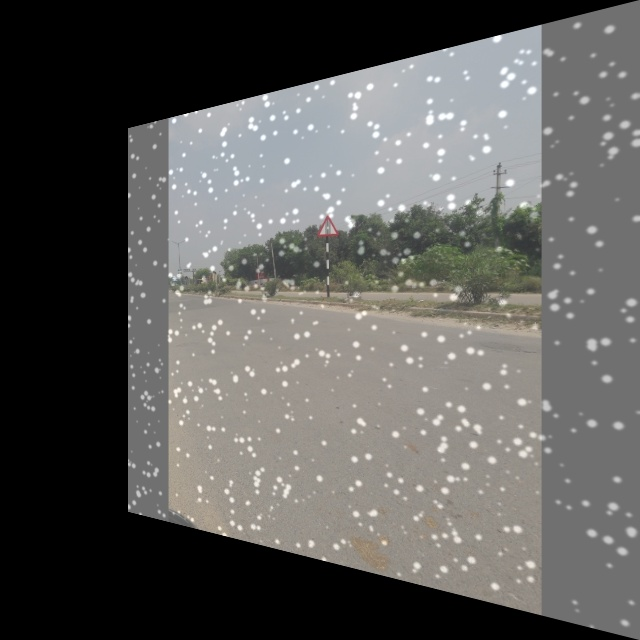Gap_in_Median: (313, 209, 344, 240)
